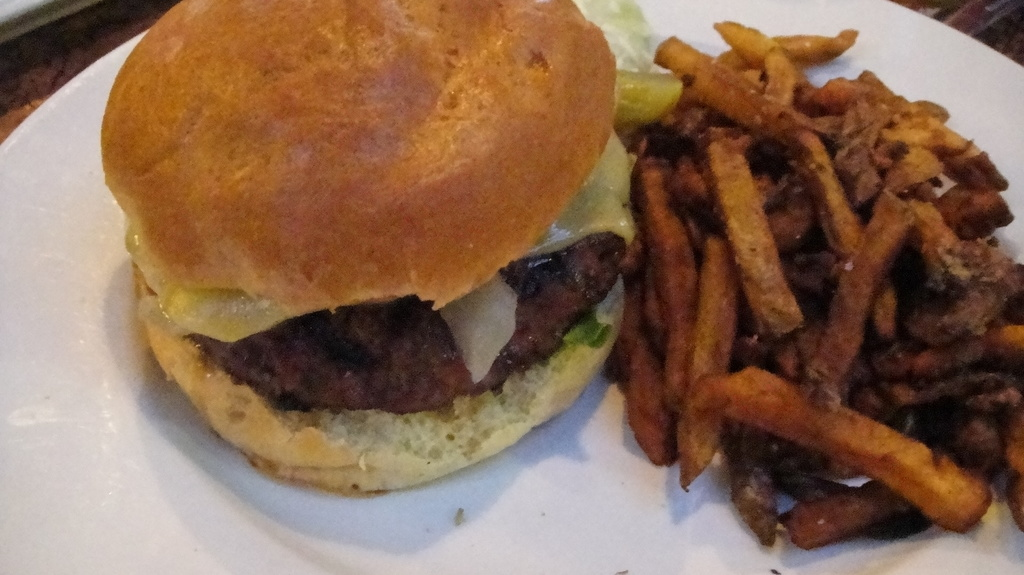French fries: (620, 0, 1023, 557)
